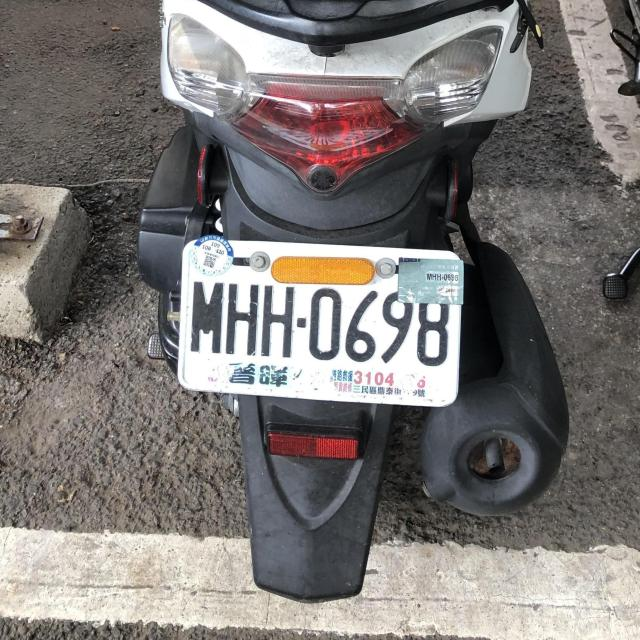W: (175, 238, 462, 407)
